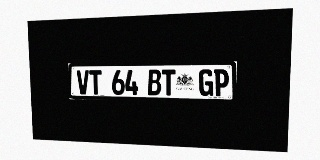4: (125, 70, 138, 95)
6: (112, 70, 125, 95)
B: (148, 69, 161, 95)
G: (199, 69, 213, 96)
P: (214, 69, 229, 96)
T: (162, 69, 175, 95), (89, 70, 102, 95)
V: (77, 70, 89, 94)
